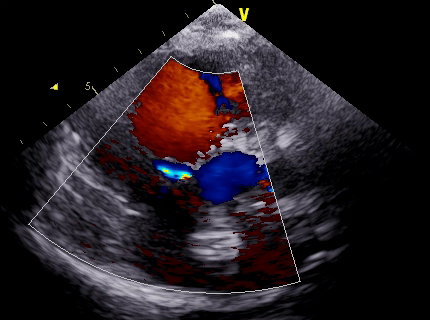TR: (141, 142, 216, 206)
